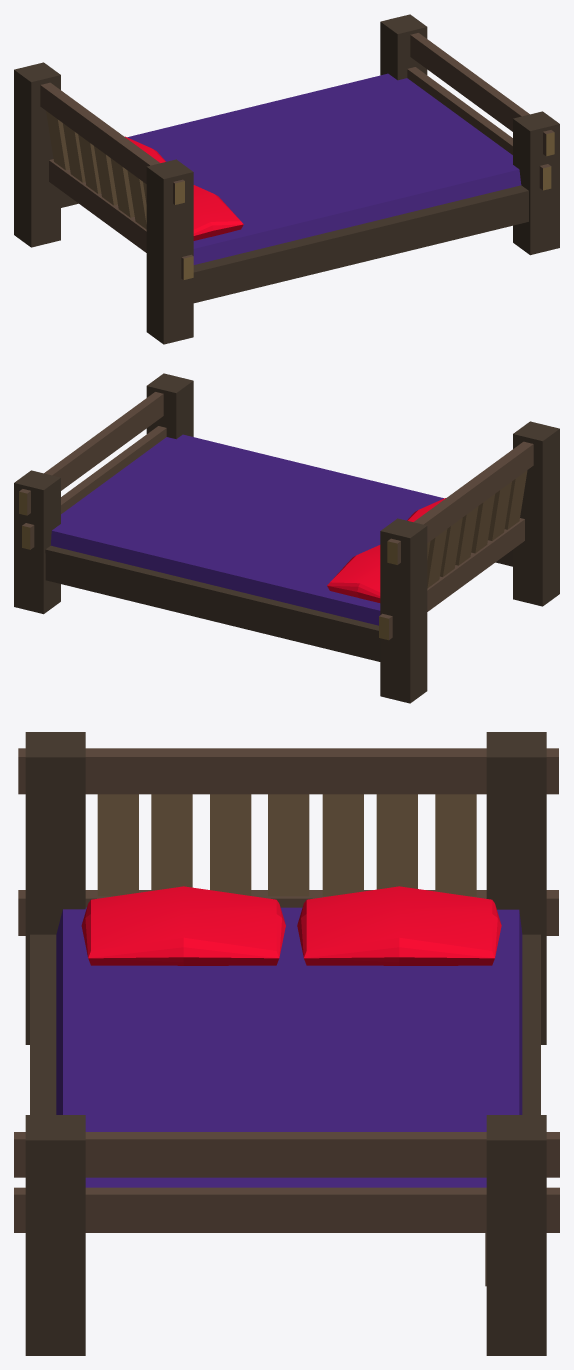
File: Bed_2.fbx
3 views of the same model, one above another, from view 1: azimuth 30°, elevation 25°; view 2: azimuth 150°, elevation 25°; view 3: azimuth 270°, elevation 25° (orthographic). The views are drawn at different scales.
Visible parts, largest first — view 1: pCube2431; view 2: pCube2431; view 3: pCube2431.
Part boxes in pixels (left/top/right/bottom): pCube2431: left=14, top=14, right=559, bottom=344; pCube2431: left=14, top=373, right=559, bottom=703; pCube2431: left=14, top=732, right=559, bottom=1355.
Bounding box in the file's own units: 202 × 80.37 × 138.
